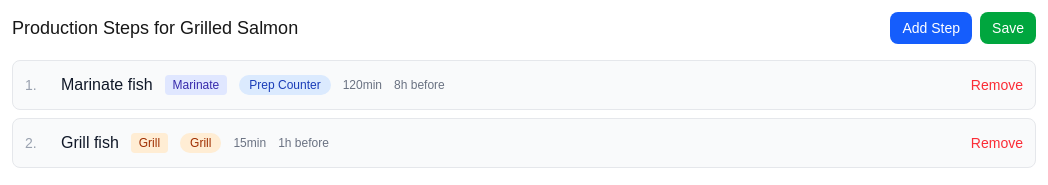
ProductionStepsEditor › removing steps › removes step when Remove clicked
Click the button with aria-label "Remove step Marinate fish".
click(997, 85)  # box left=971, top=75, right=1023, bottom=95
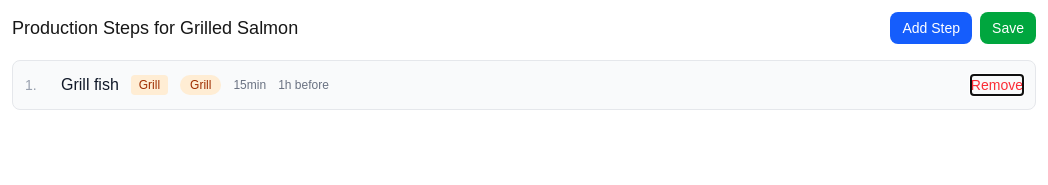
Now the text "Marinate fish" is gone
Now the text "Grill fish" is shown, box left=61, top=73, right=119, bottom=97
